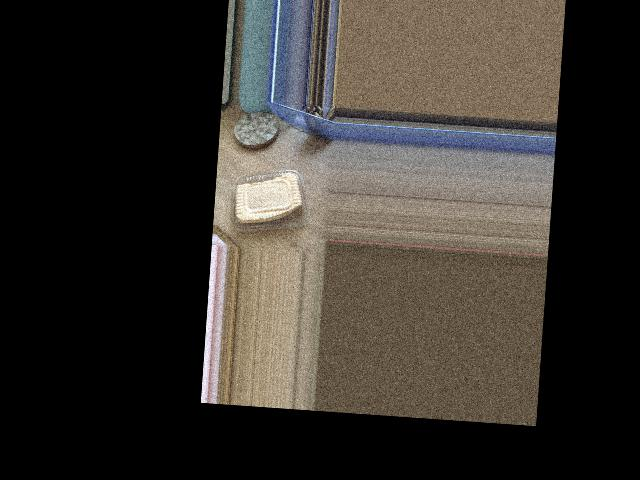cheese: (218, 160, 303, 252)
